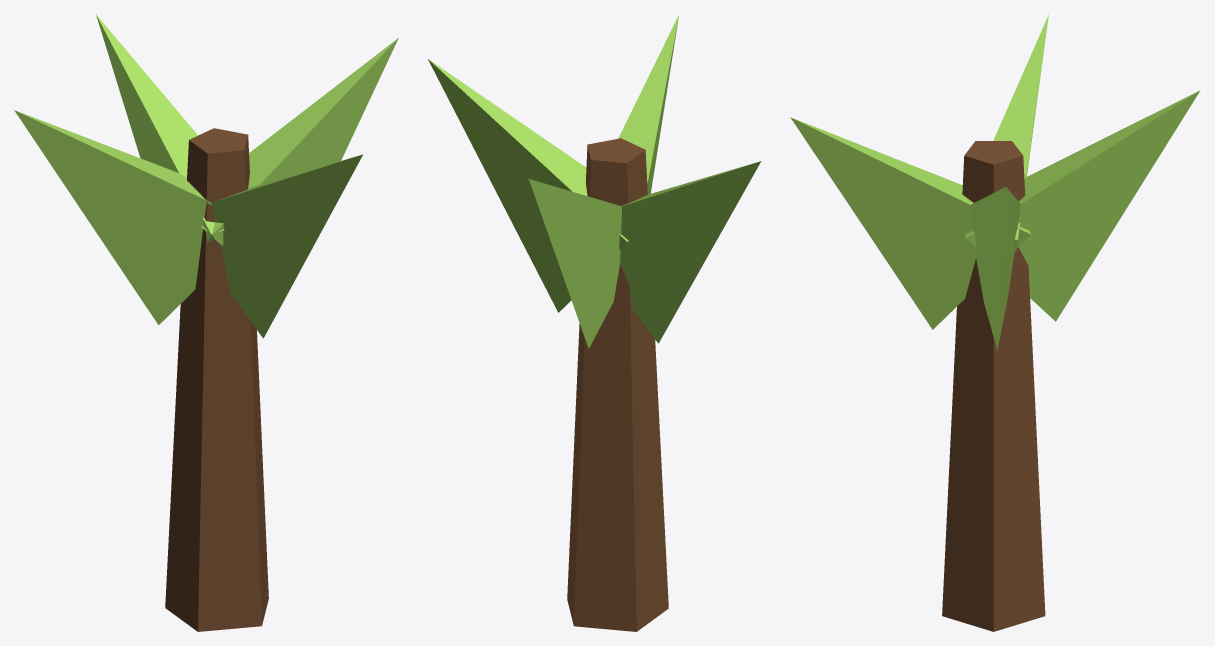
File: apple-1.glb
3 views of the same model, side by side, from view 1: azimuth 30°, elevation 25°; view 2: azimuth 150°, elevation 25°; view 3: azimuth 270°, elevation 25° (orthographic). The views are drawn at different scales.
Visible parts, largest first — view 1: apple-1; view 2: apple-1; view 3: apple-1.
Boxes of the visible parts, x1,y1,x2,y2 form: apple-1: (14,14,398,631); apple-1: (428,15,761,631); apple-1: (790,14,1200,631).
Size of the model in its own units: 0.1052 by 0.145 by 0.1058.
Materials: 1 (1 with a texture image).
